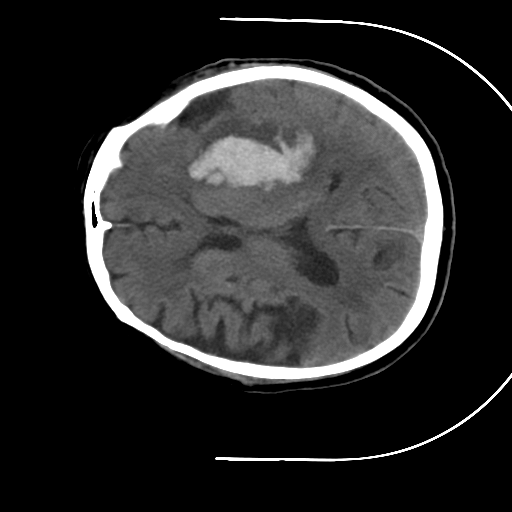a: (179, 103, 335, 204)
